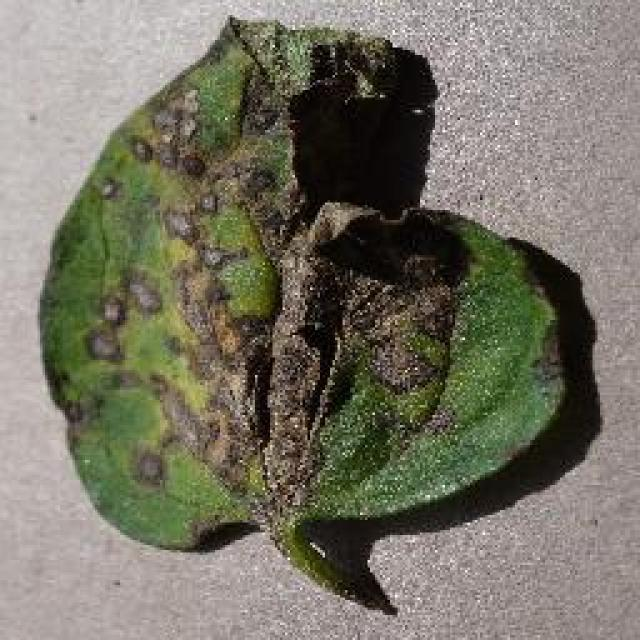Tomato Early blight leaf: (42, 16, 567, 558)
